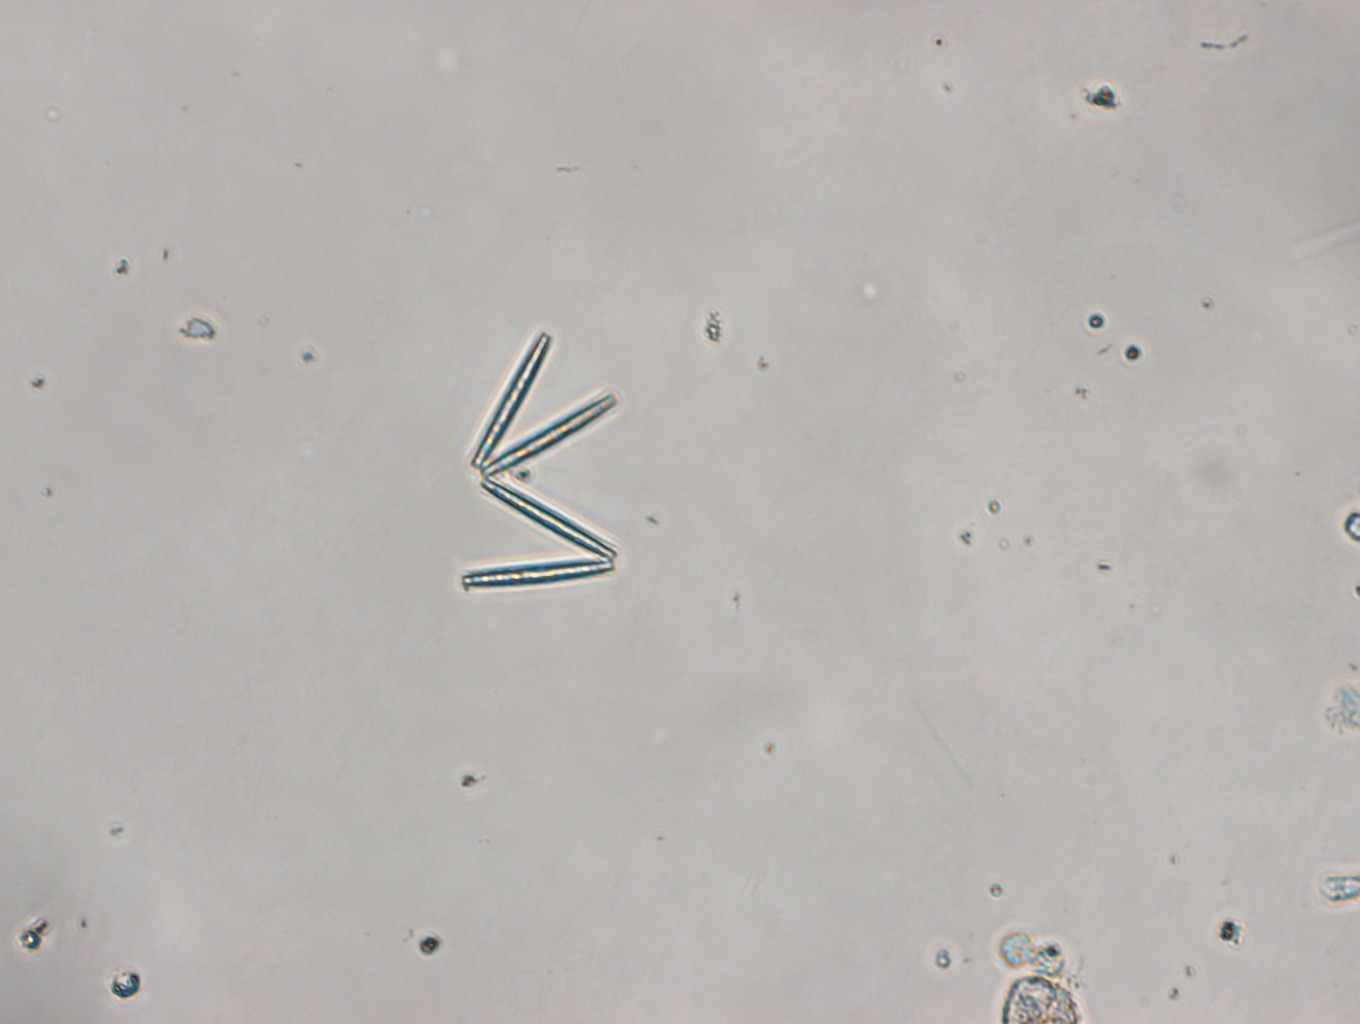thalassionema nitzschioides: (458, 332, 620, 593)
